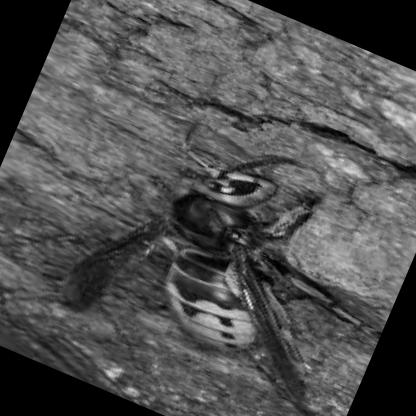european: (51, 90, 416, 415)
